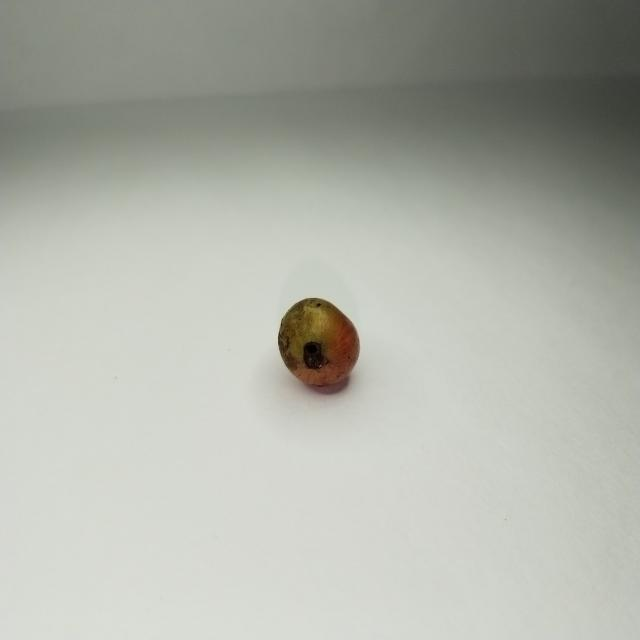Infectado: (277, 298, 362, 394)
